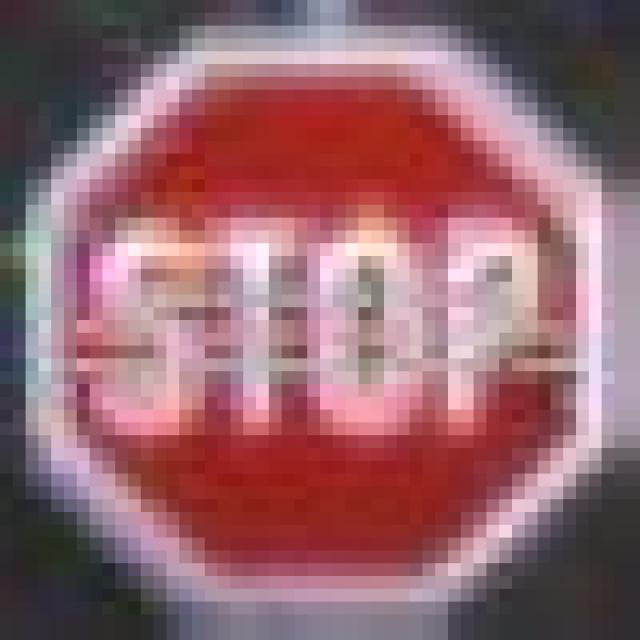STOP: (26, 39, 602, 602)
